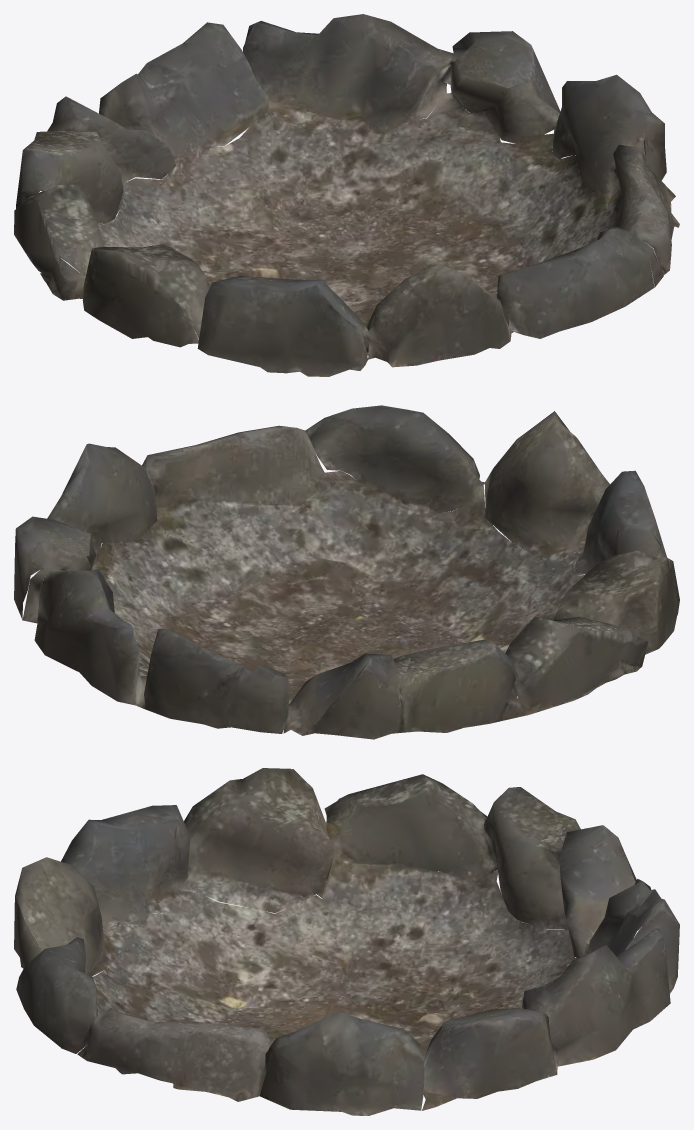
Rendered from ph_stone_fire_pit.glb.
The picture shows the model from 3 angles, top to bottom: view 1: azimuth 30°, elevation 25°; view 2: azimuth 150°, elevation 25°; view 3: azimuth 270°, elevation 25°; orthographic projection.
Visible parts, largest first — view 1: stone_fire_pit; view 2: stone_fire_pit; view 3: stone_fire_pit.
Boxes of the visible parts, x1,y1,x2,y2 form: stone_fire_pit: (14,14,679,376); stone_fire_pit: (14,405,679,739); stone_fire_pit: (14,768,679,1115).
Size of the model in its own units: 1.45 by 0.3871 by 1.43.
Materials: 1 (1 with a texture image).
